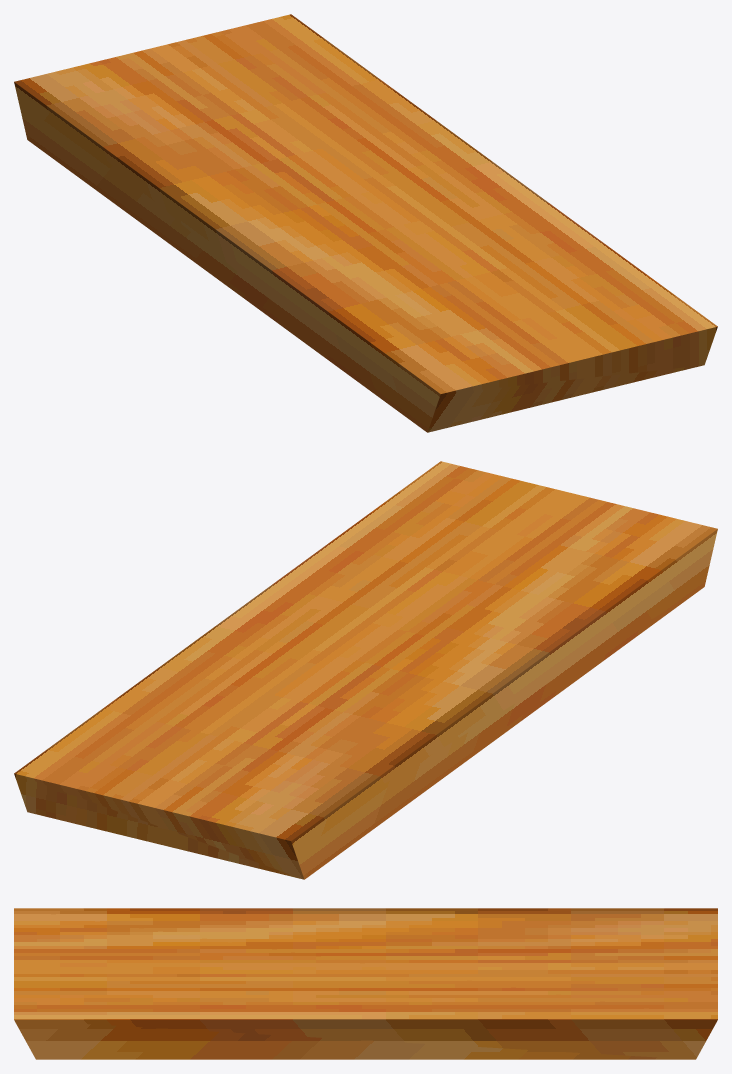
File: obj_seesaw.glb
3 views of the same model, one above another, from view 1: azimuth 30°, elevation 25°; view 2: azimuth 150°, elevation 25°; view 3: azimuth 270°, elevation 25° (orthographic). The views are drawn at different scales.
Visible parts, largest first — view 1: obj_seesaw; view 2: obj_seesaw; view 3: obj_seesaw.
Boxes of the visible parts, x1,y1,x2,y2 form: obj_seesaw: (14,14,717,432); obj_seesaw: (14,461,717,879); obj_seesaw: (14,908,717,1059).
Bounding box in the file's own units: 4.69 × 0.7812 × 12.5.
1 material, 1 textured.
